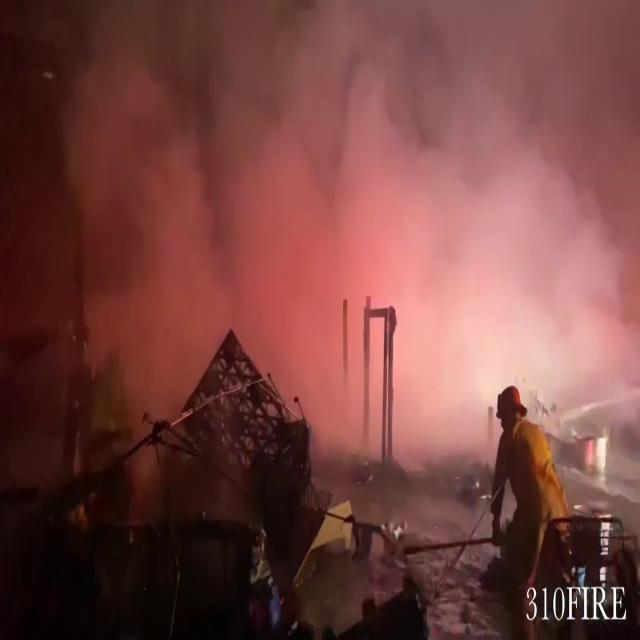Smoke: (11, 0, 639, 467)
